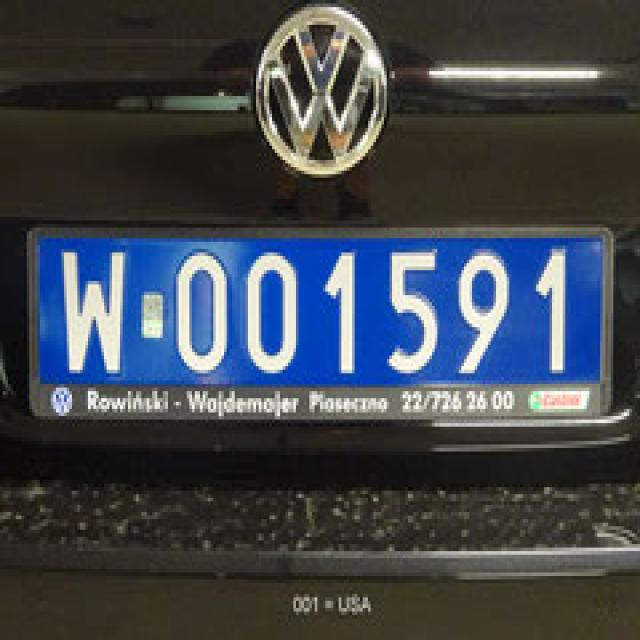pl_license_plate: (32, 234, 600, 380)
